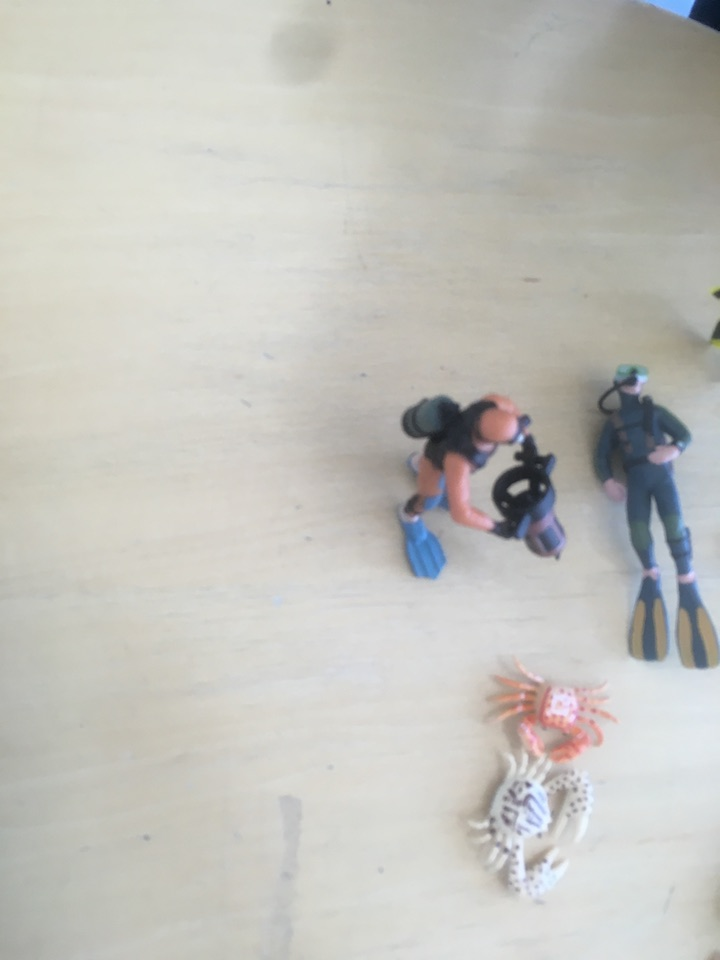crab: (465, 746, 599, 906), (483, 652, 618, 774)
diver: (592, 359, 720, 675), (395, 392, 571, 584)
